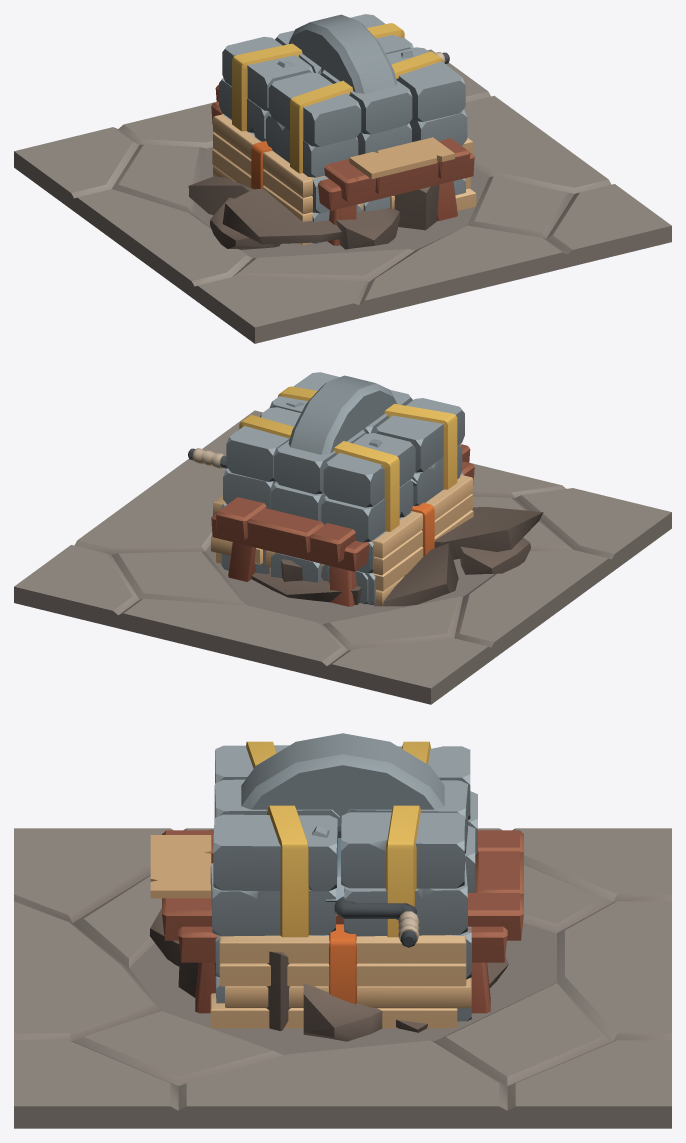
The model's file is holding-quarry.glb.
The picture shows the model from 3 angles, top to bottom: view 1: azimuth 30°, elevation 25°; view 2: azimuth 150°, elevation 25°; view 3: azimuth 270°, elevation 25°; orthographic projection. The views are drawn at different scales.
Visible parts, largest first — view 1: floor_tile_large_rocks, Stone_Bricks_Stack_Large, grindstone, Wood_Planks_Stack_Medium, grindstone_wheel; view 2: floor_tile_large_rocks, Stone_Bricks_Stack_Large, grindstone, Wood_Planks_Stack_Medium, grindstone_wheel, Stone_Bricks_Stack_Medium; view 3: floor_tile_large_rocks, Stone_Bricks_Stack_Large, Wood_Planks_Stack_Medium, grindstone, grindstone_wheel, Stone_Bricks_Stack_Medium.
Boxes of the visible parts, box(x1,y1,x2,y2) form: floor_tile_large_rocks: box(14, 49, 671, 343); Stone_Bricks_Stack_Large: box(219, 14, 467, 243); grindstone: box(211, 84, 474, 245); Wood_Planks_Stack_Medium: box(212, 114, 476, 245); grindstone_wheel: box(288, 14, 449, 93); floor_tile_large_rocks: box(14, 410, 671, 704); Stone_Bricks_Stack_Large: box(221, 372, 464, 604); grindstone: box(211, 444, 474, 606); Wood_Planks_Stack_Medium: box(211, 474, 473, 606); grindstone_wheel: box(188, 375, 396, 468); Stone_Bricks_Stack_Medium: box(220, 503, 412, 604); floor_tile_large_rocks: box(14, 828, 671, 1128); Stone_Bricks_Stack_Large: box(210, 741, 477, 1020); Wood_Planks_Stack_Medium: box(210, 924, 471, 1028); grindstone: box(150, 830, 523, 1013); grindstone_wheel: box(241, 733, 444, 947); Stone_Bricks_Stack_Medium: box(215, 931, 471, 1021).
Size of the model in its own units: 4 by 1.77 by 4.
4 materials, 4 textured.
